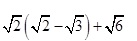sqrt: (3, 13, 24, 36), (67, 13, 87, 34), (29, 14, 50, 34), (105, 14, 124, 35)
